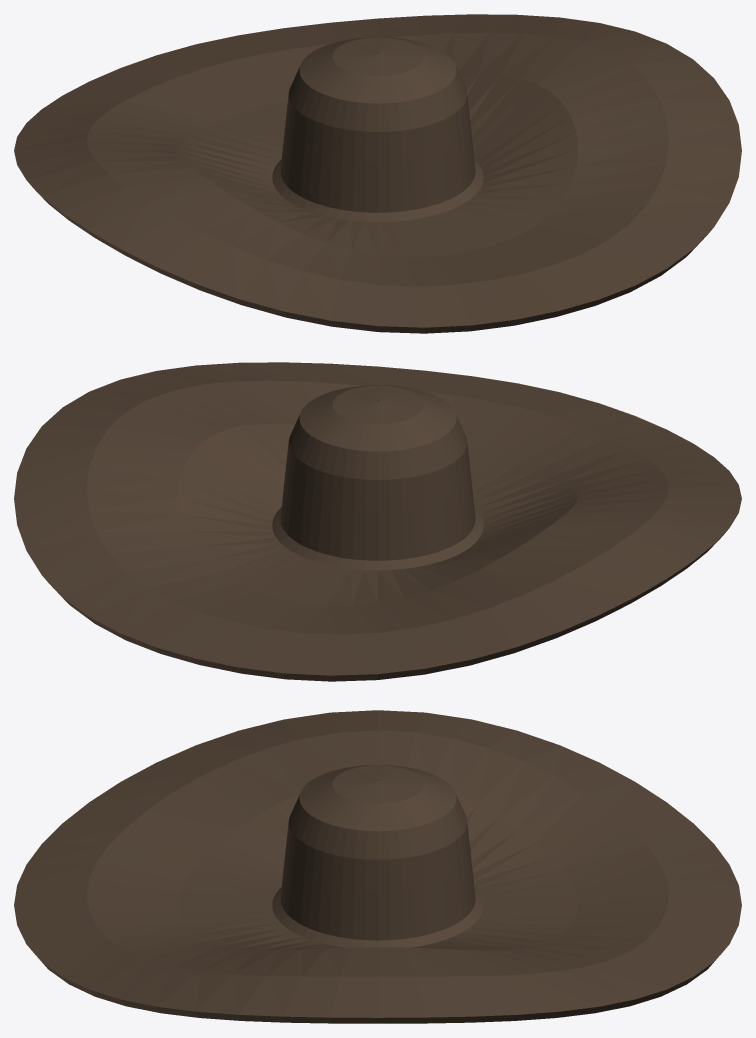
File: cowboy_hat.glb
3 renders of one model, top to bottom at view 1: azimuth 30°, elevation 25°; view 2: azimuth 150°, elevation 25°; view 3: azimuth 270°, elevation 25°, orthographic.
Visible parts, largest first — view 1: CowboyHat; view 2: CowboyHat; view 3: CowboyHat.
Part boxes in pixels (x1,y1,x2,y2): CowboyHat: [14, 14, 741, 333]; CowboyHat: [14, 362, 741, 681]; CowboyHat: [14, 710, 741, 1023].
Size of the model in its own units: 0.88 by 0.225 by 0.88.
